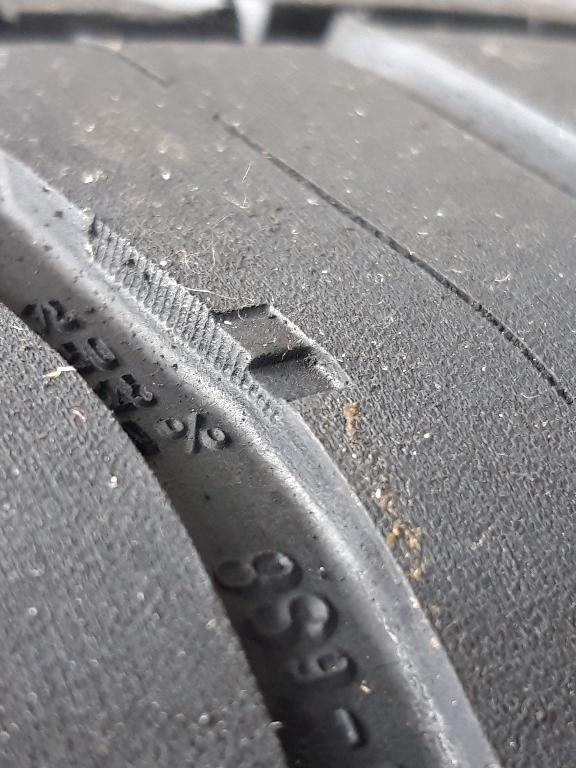temoin:25: (193, 293, 369, 434)
